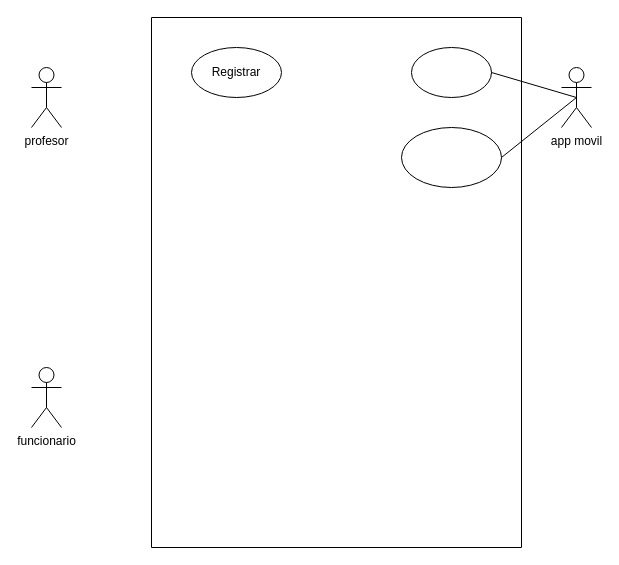
The diagram is 619 pixels wide and 565 high, and some of its shapes have lost their labels. The shapes that lost their labels are listed below. From the top down, each one's centre as x and y in pixels, then its label:
point (451, 72): Registrar estudiantes
point (451, 157): Enviar resultados de estudiantes
